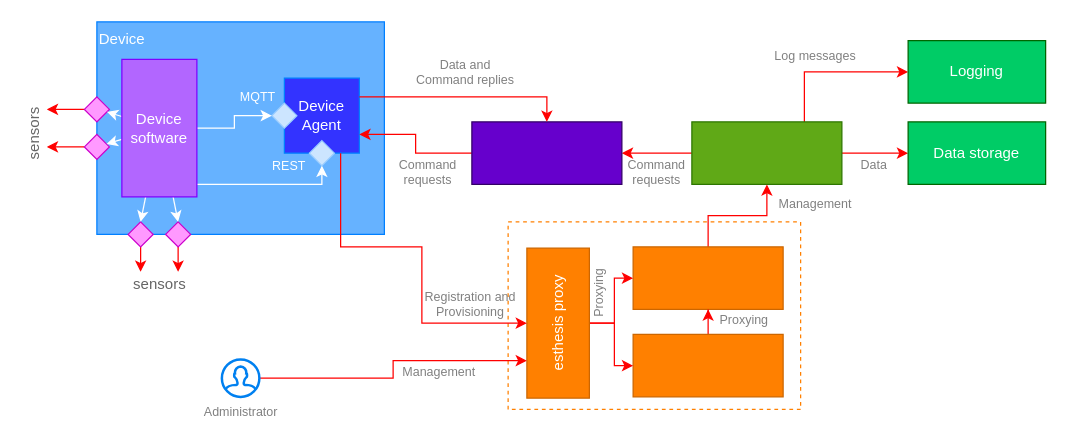
This 1068x443 diagram has some shape labels left out. The shapes that lost their labels are listed below. From the top down, each one's centre as x and y in pixels, then its label:
At point 546,152: "MQTT server".
At point 766,152: "NiFi".
At point 707,277: "esthesis back-end".
At point 707,365: "esthesis front-end".
